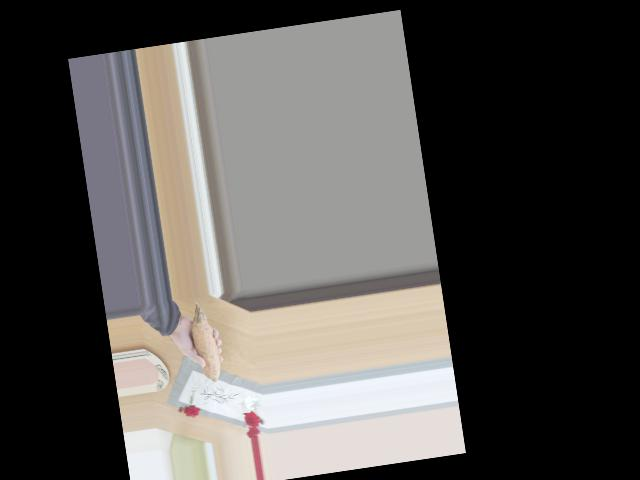sweet_potato: (181, 306, 226, 387)
